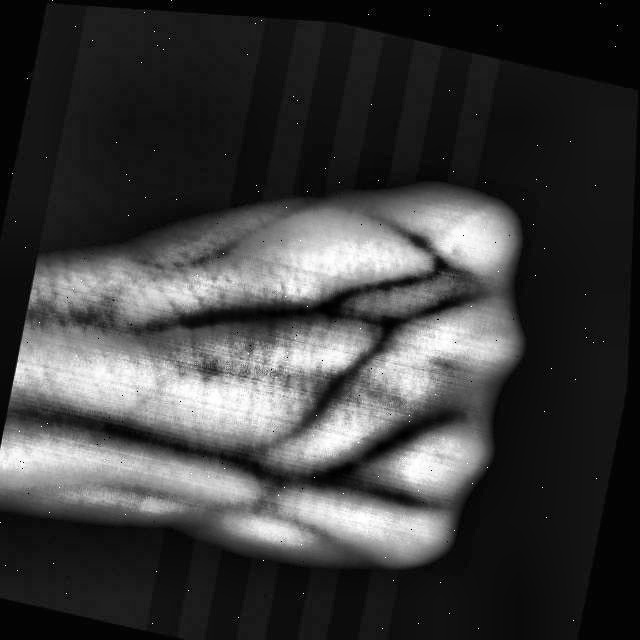Vein: (100, 412, 255, 482)
